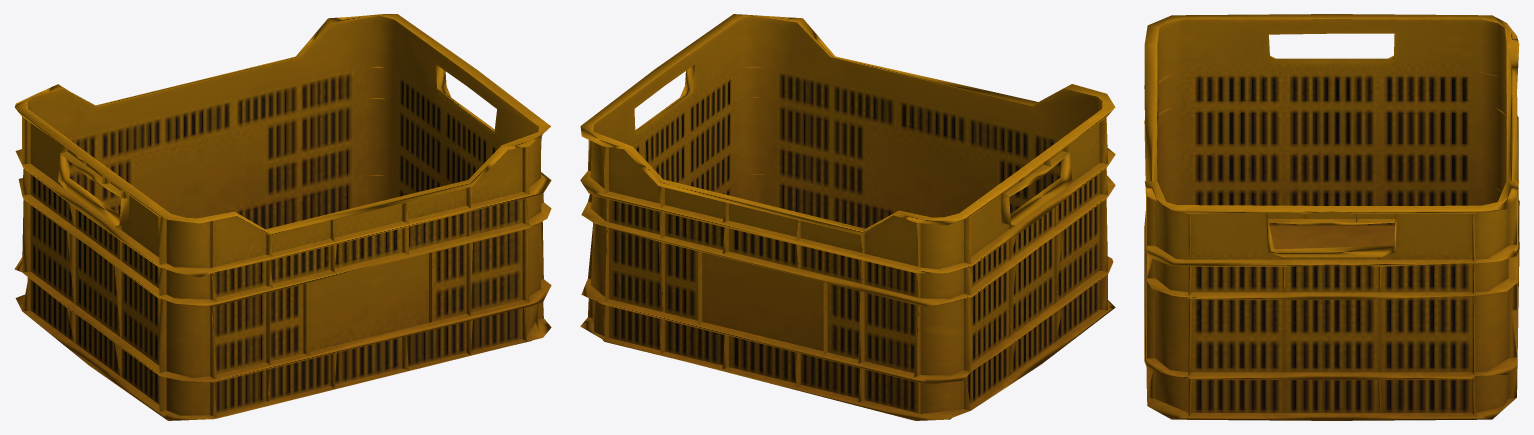
The model's file is crate.glb.
3 renders of one model, left to right at view 1: azimuth 30°, elevation 25°; view 2: azimuth 150°, elevation 25°; view 3: azimuth 270°, elevation 25°, orthographic. The views are drawn at different scales.
Visible parts, largest first — view 1: plastic_crate_02; view 2: plastic_crate_02; view 3: plastic_crate_02.
Part boxes in pixels (x1=…): plastic_crate_02: x1=14, y1=14, x2=551, y2=420; plastic_crate_02: x1=580, y1=14, x2=1115, y2=420; plastic_crate_02: x1=1144, y1=14, x2=1519, y2=420.
Bounding box in the file's own units: 0.5055 × 0.2541 × 0.4055.
1 material, 1 textured.
